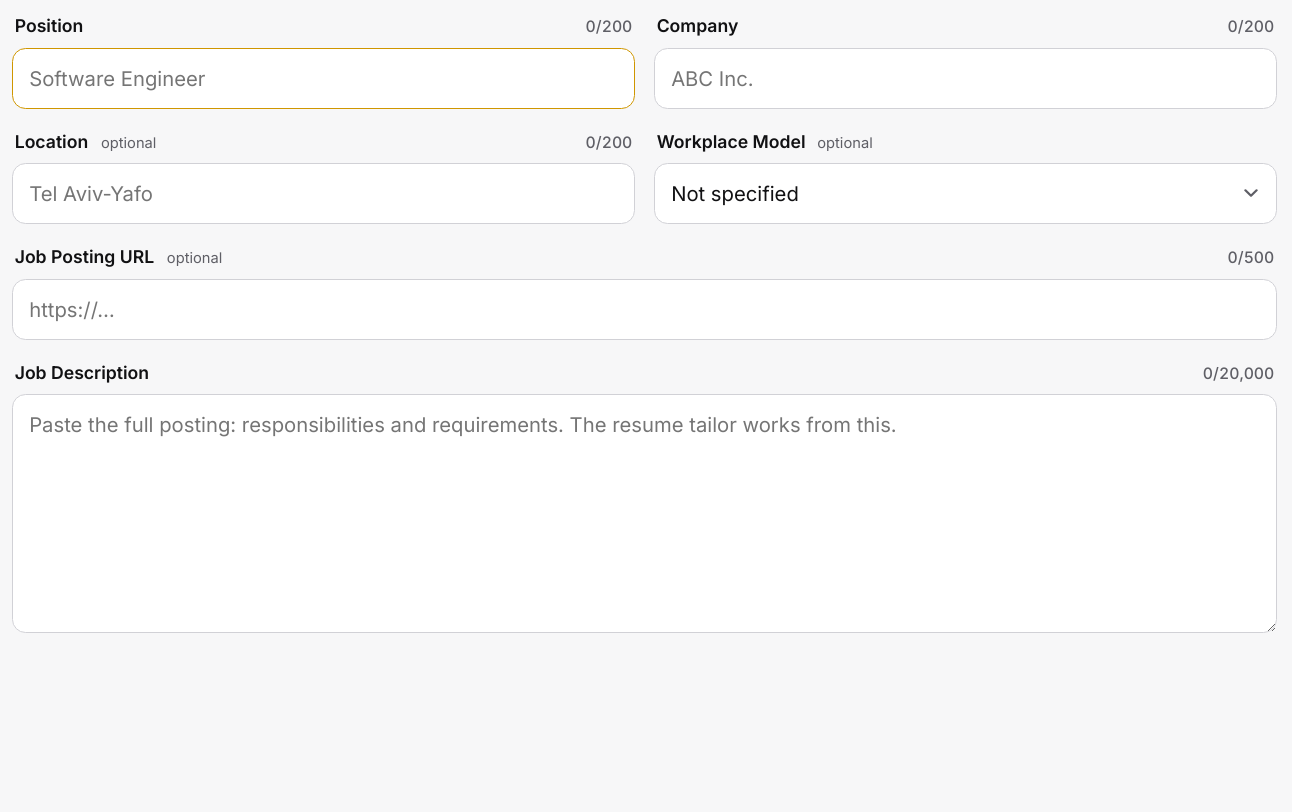
Scenario: JobPostForm duplicates › counts an application from today, since a new job post has no date of its own
The image size is (1292, 812).
Type "Backend Engineer" into the dropdown with placeholder "Software Engineer" at (324, 78), box [12,48,635,109]
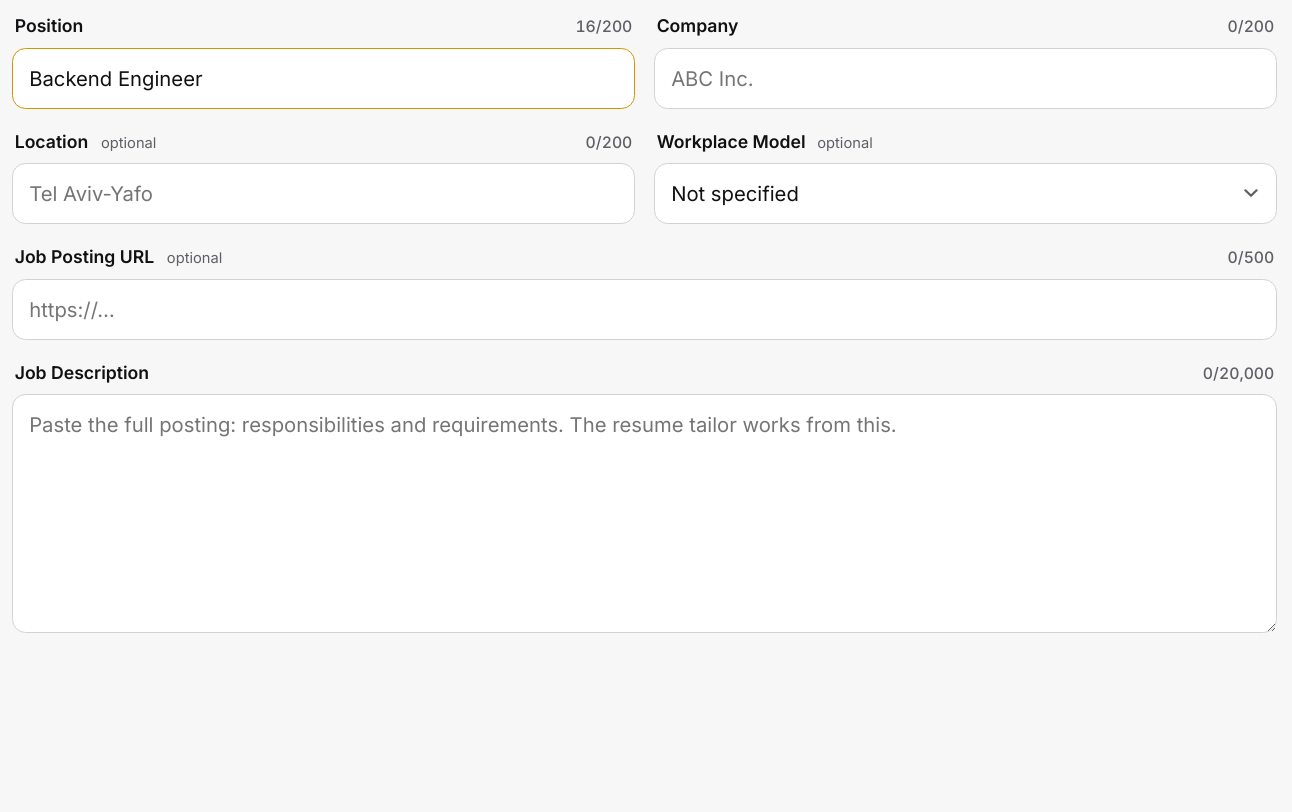
Type "Orbit" into the dropdown with placeholder "ABC Inc." at (965, 78), box [654,48,1277,109]
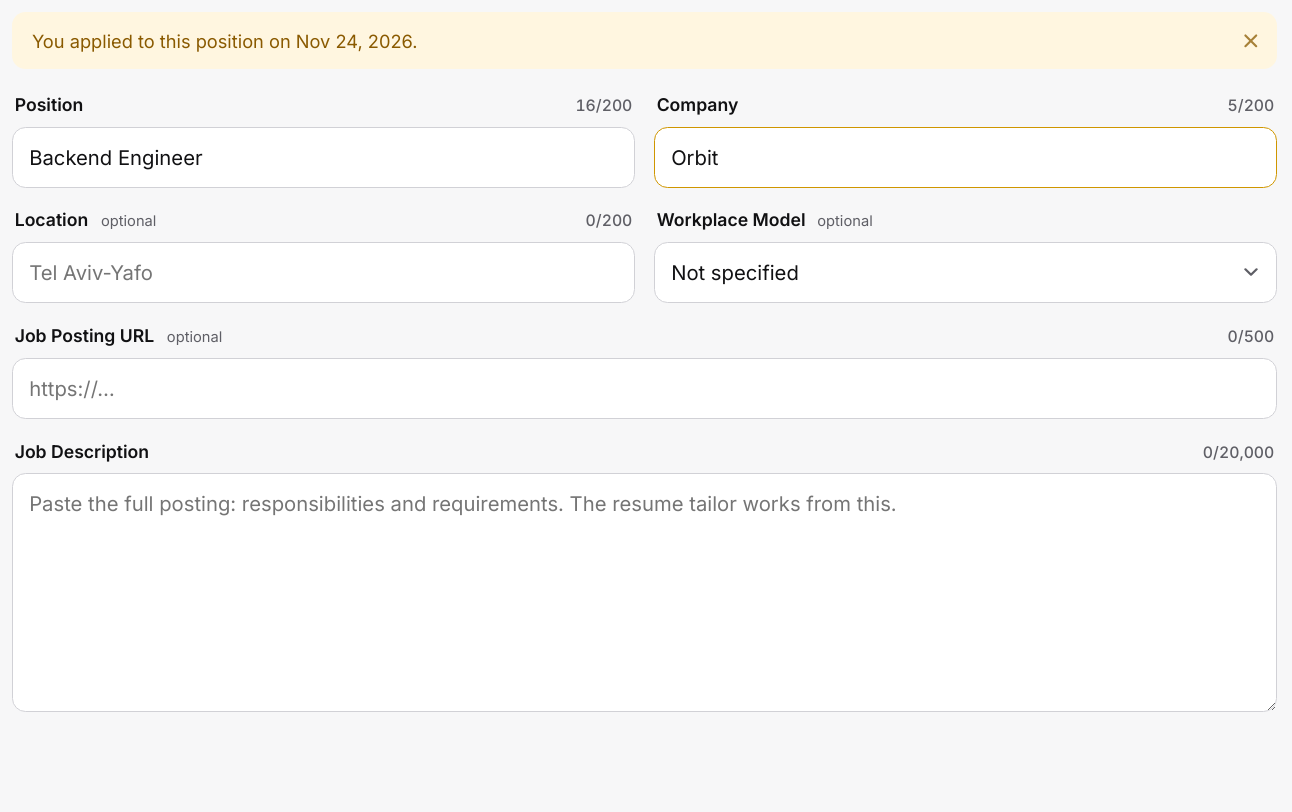
Expected: the message "You applied to this position on Nov 24, 2026." is shown, [12,12,1277,69]
